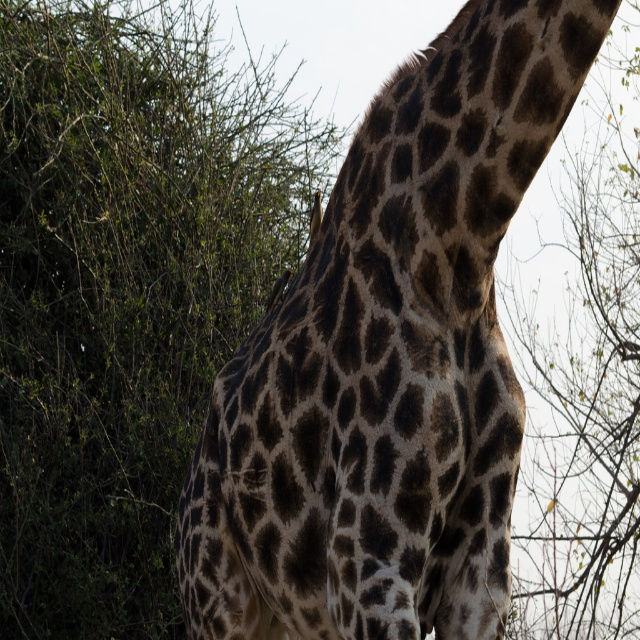Giraffe: (169, 0, 619, 640)
